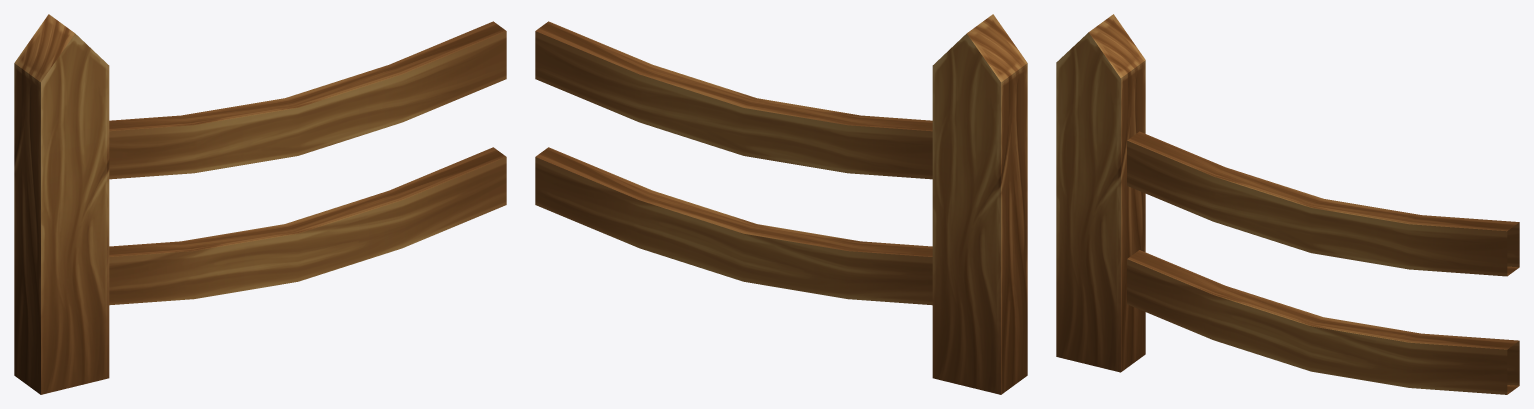
File: Fence.FBX
3 renders of one model, left to right at view 1: azimuth 30°, elevation 25°; view 2: azimuth 150°, elevation 25°; view 3: azimuth 330°, elevation 25°, orthographic. The views are drawn at different scales.
Parts seen in each view (by area): view 1: Fence; view 2: Fence; view 3: Fence.
Boxes of the visible parts, x1=… form: Fence: x1=14, y1=14, x2=506, y2=394; Fence: x1=535, y1=14, x2=1027, y2=394; Fence: x1=1056, y1=14, x2=1519, y2=394.
Bounding box in the file's own units: 2.06 × 1.47 × 0.2.
